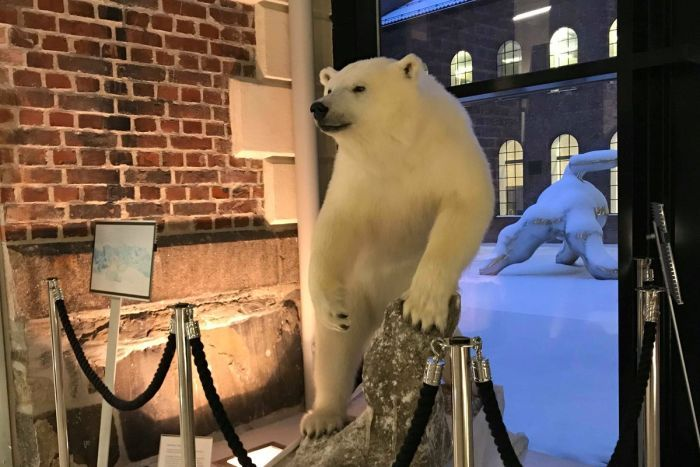Polar Bear: (279, 35, 499, 425)
